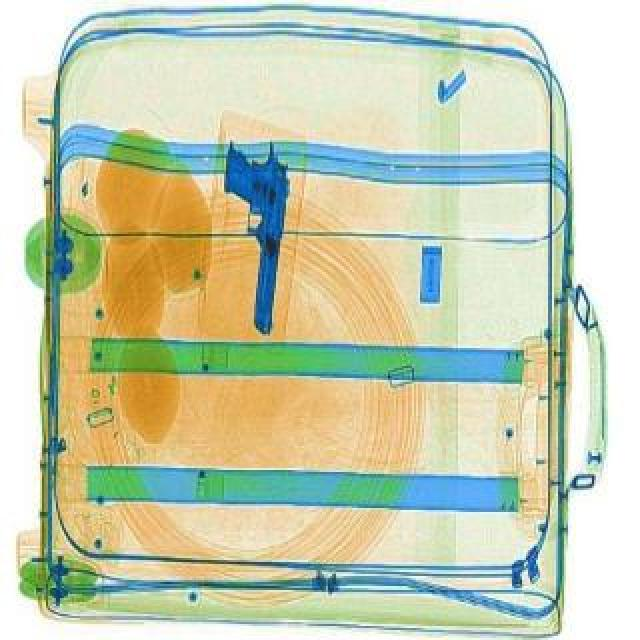gun: (200, 144, 294, 332)
